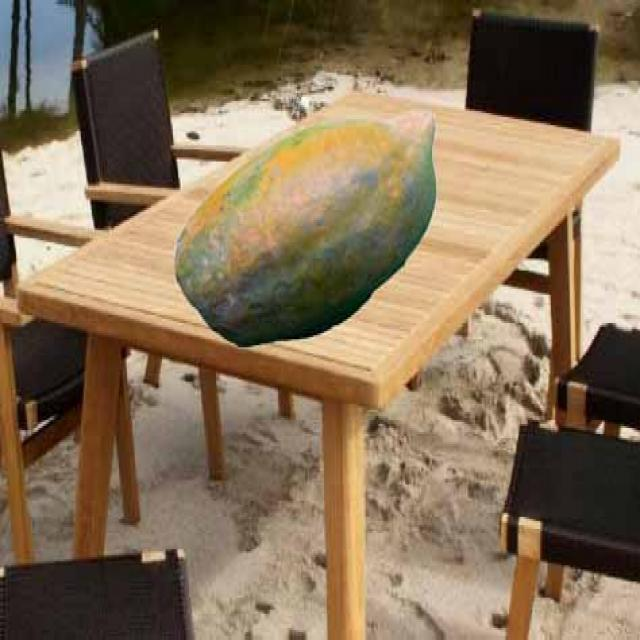Pepaya rippen: (172, 105, 438, 349)
